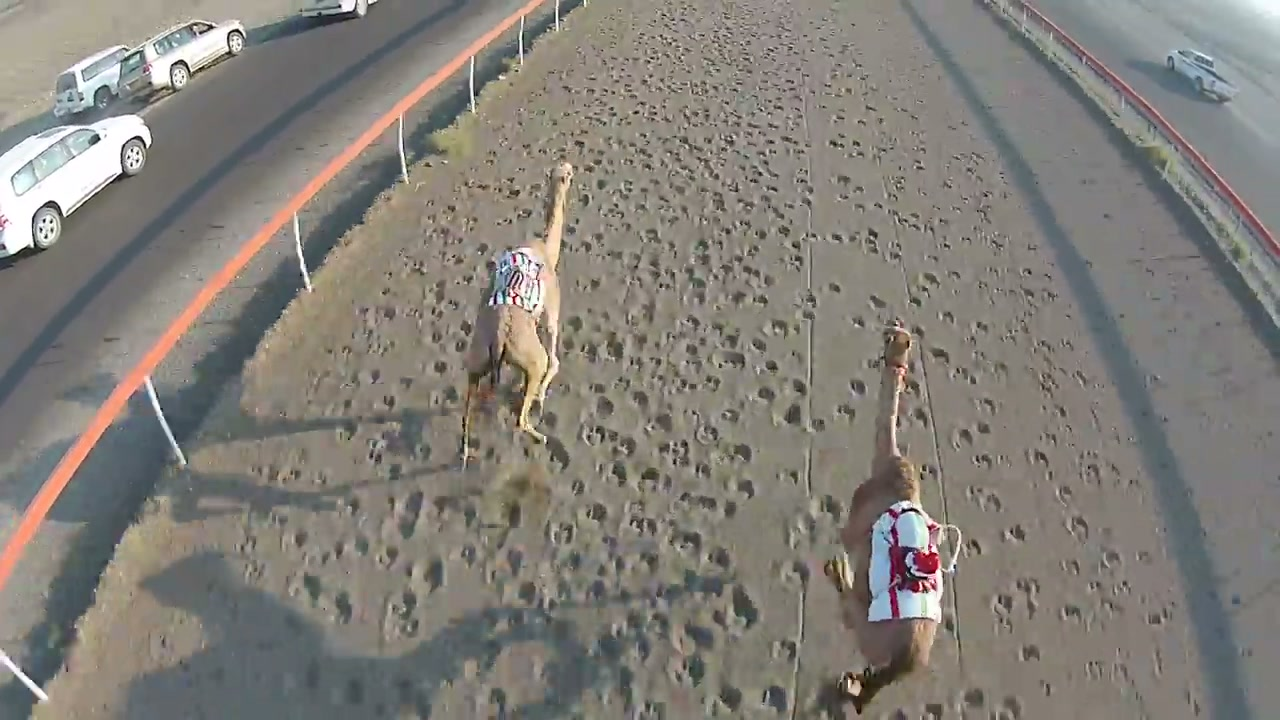animal_foot_print: (429, 24, 755, 640), (735, 26, 928, 719)
